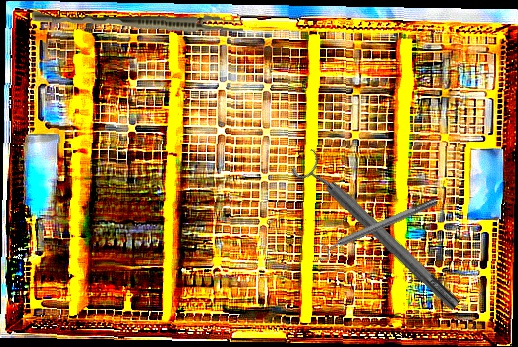Fixation Ring: (289, 146, 468, 320), (312, 192, 441, 263)
Tissue Forceps: (31, 11, 244, 33)
